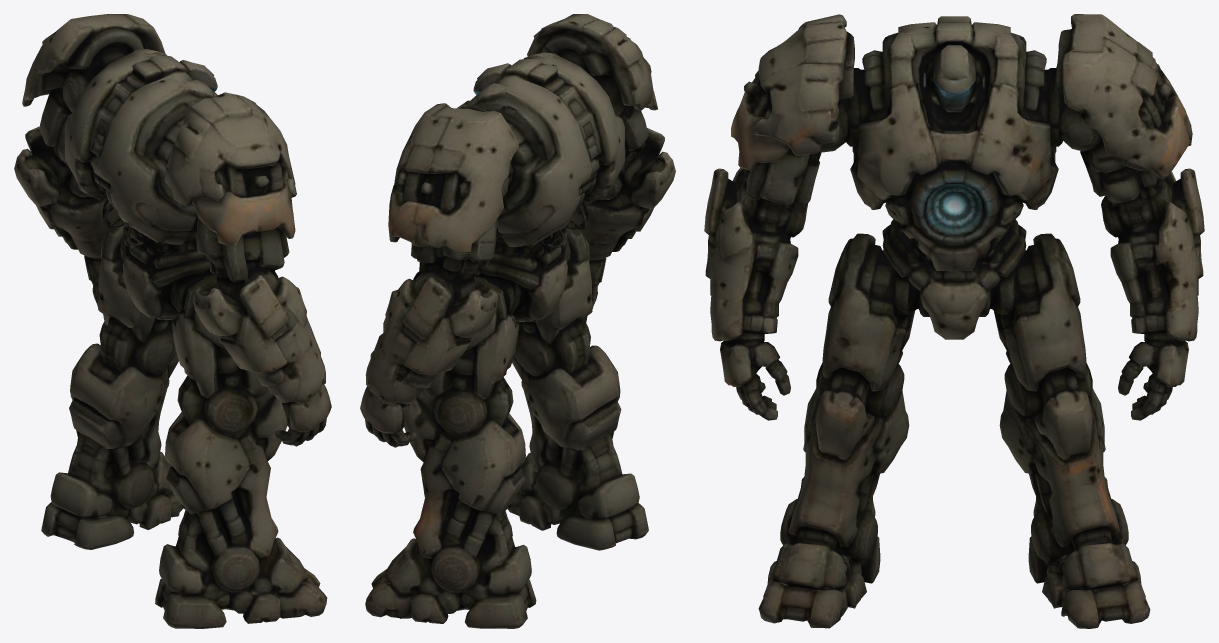
File: e7b54117-37cf-494b-a3ce-d7d3ead2920c-model_url.glb
3 views of the same model, side by side, from view 1: azimuth 30°, elevation 25°; view 2: azimuth 150°, elevation 25°; view 3: azimuth 270°, elevation 25° (orthographic). The views are drawn at different scales.
Parts seen in each view (by area): view 1: tripo_node_e5192c06-e783-49b4-a2c1-1b25441ecbc7; view 2: tripo_node_e5192c06-e783-49b4-a2c1-1b25441ecbc7; view 3: tripo_node_e5192c06-e783-49b4-a2c1-1b25441ecbc7.
Boxes of the visible parts, x1,y1,x2,y2 form: tripo_node_e5192c06-e783-49b4-a2c1-1b25441ecbc7: (14,14,331,628); tripo_node_e5192c06-e783-49b4-a2c1-1b25441ecbc7: (360,14,675,628); tripo_node_e5192c06-e783-49b4-a2c1-1b25441ecbc7: (704,14,1204,628).
Size of the model in its own units: 0.3444 by 1 by 0.8121.
Materials: 1 (1 with a texture image).
